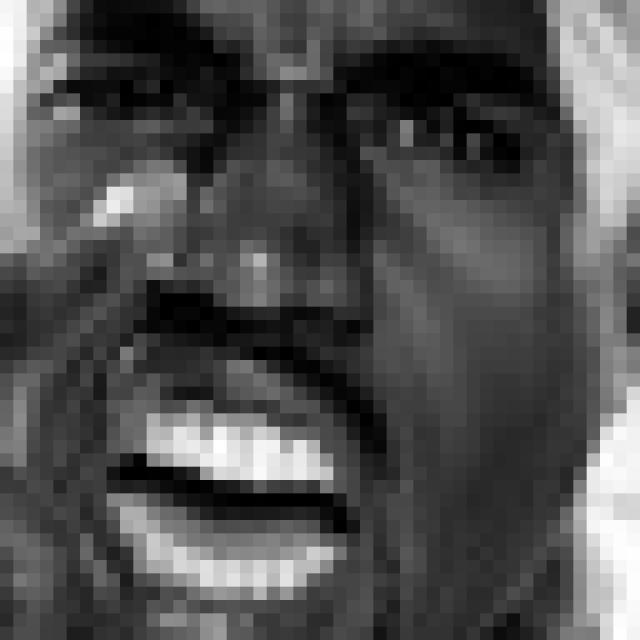angry: (40, 1, 562, 640)
